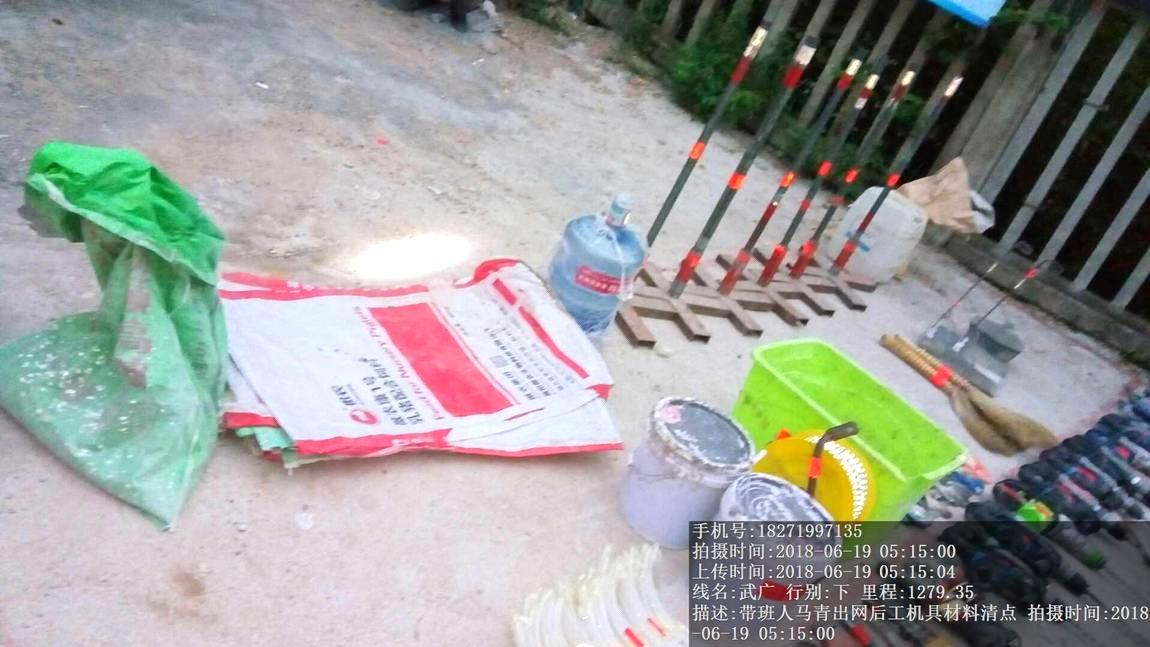BZD: (217, 254, 617, 486)
SB: (878, 334, 1049, 451)
